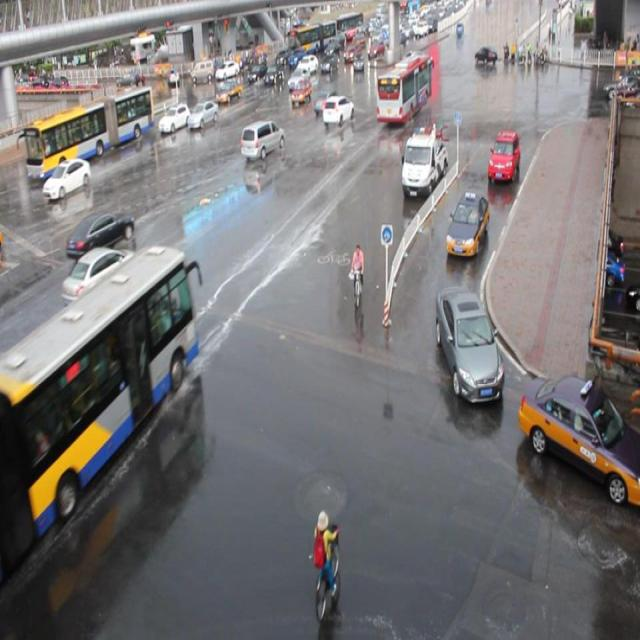bus: (400, 126, 447, 197)
car: (516, 373, 640, 504), (434, 284, 504, 402), (62, 245, 144, 306), (65, 209, 136, 258), (444, 190, 489, 256), (44, 157, 92, 197), (487, 129, 520, 184), (240, 119, 284, 160), (322, 94, 354, 126), (158, 102, 190, 134), (100, 114, 130, 146), (188, 101, 219, 129), (215, 78, 242, 102), (313, 88, 339, 112), (290, 78, 312, 105), (287, 67, 310, 89)
van: (0, 245, 198, 580), (23, 85, 155, 179), (375, 52, 432, 123)
